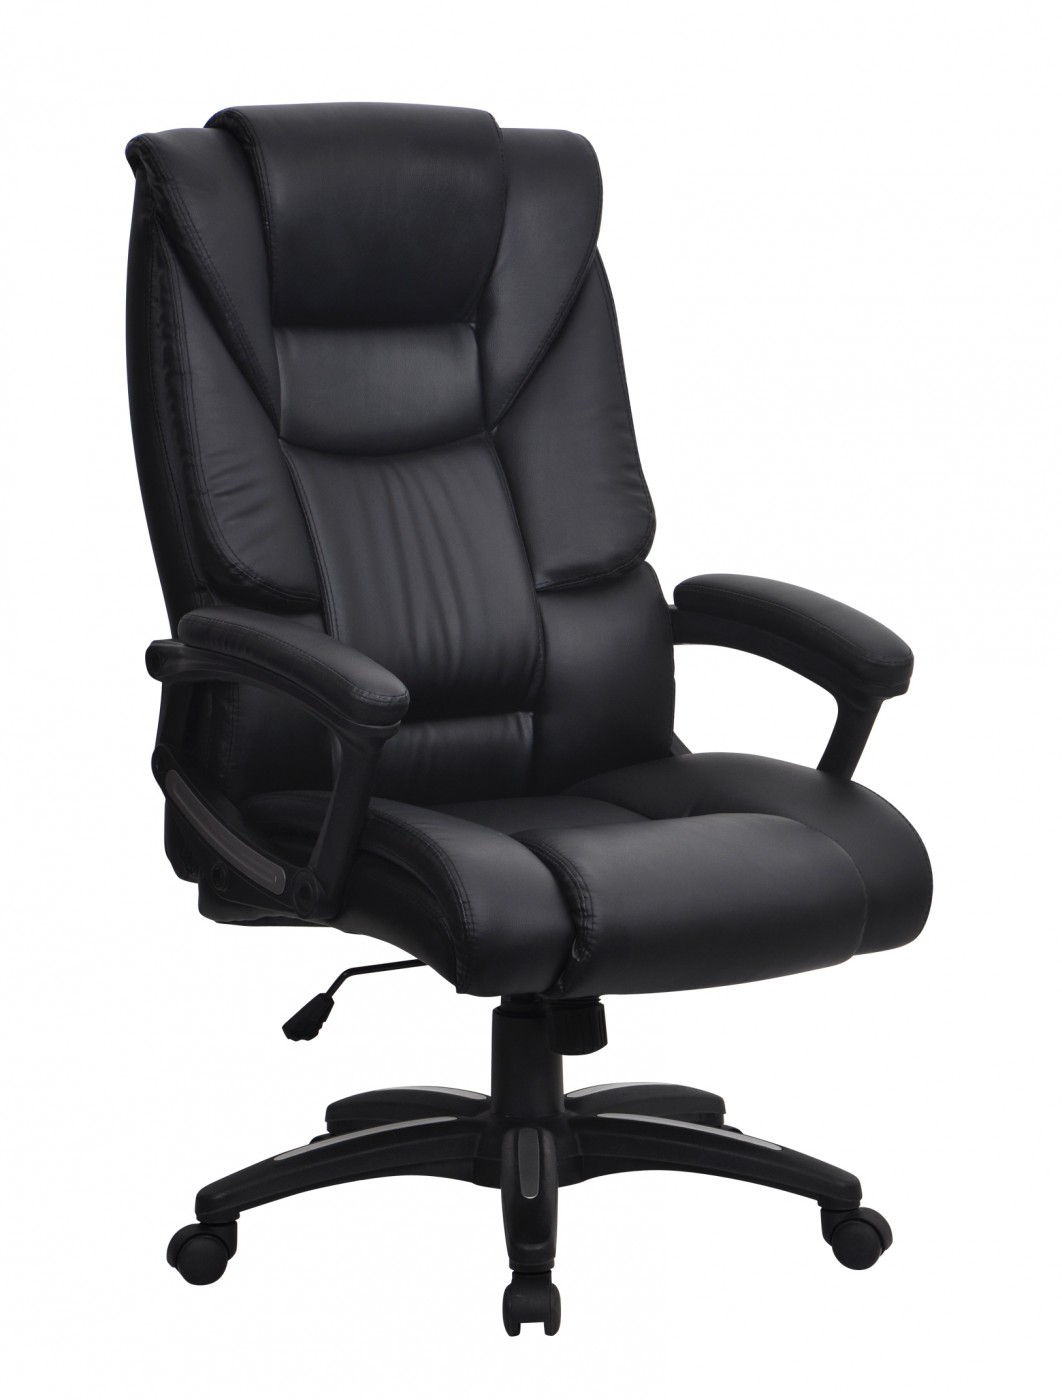chairs: (69, 90, 931, 1339)
